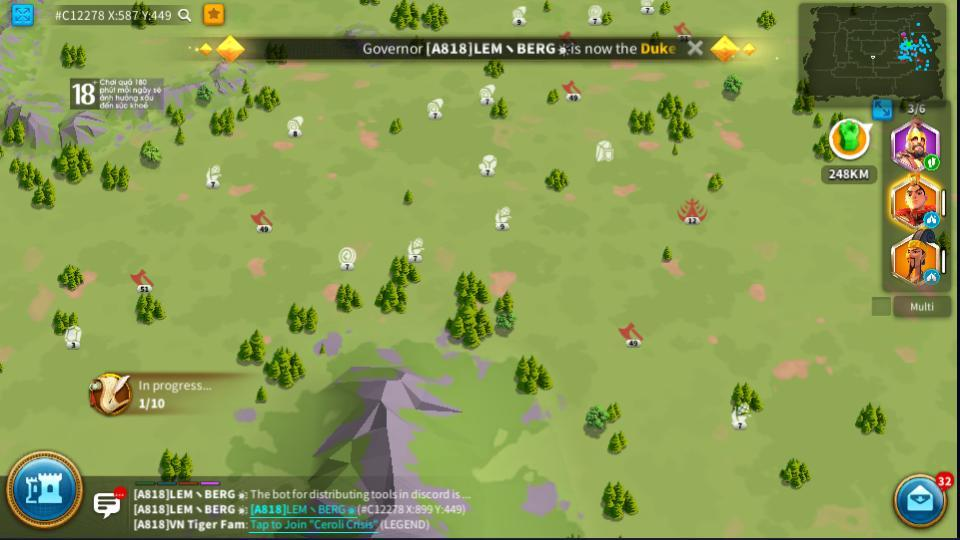gem-z-out: (585, 4, 604, 24)
march_idle: (923, 270, 939, 282), (923, 213, 938, 225)
march_marching: (923, 156, 938, 169)
